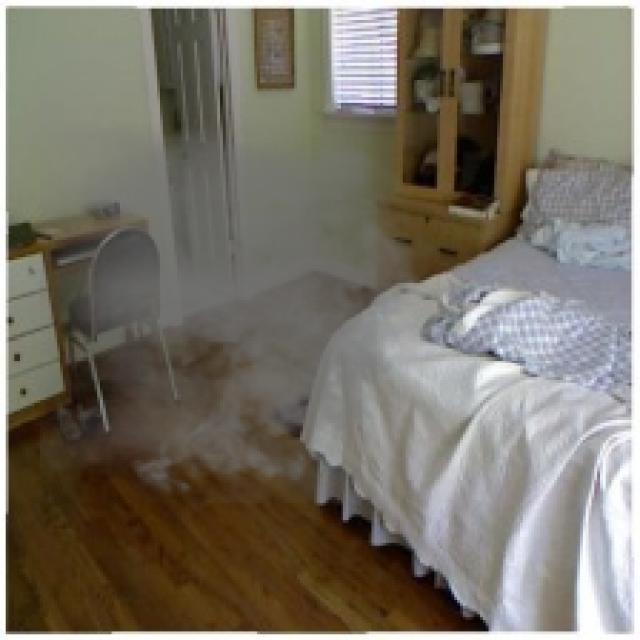smoke: (40, 123, 443, 506)
